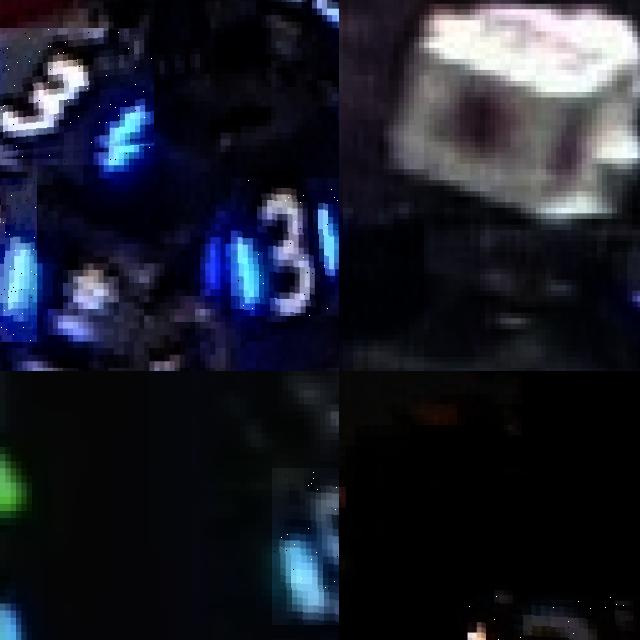B3: (0, 28, 154, 165), (230, 178, 339, 315), (0, 178, 37, 341)
B5: (272, 468, 339, 624)
R2: (457, 595, 640, 640)
